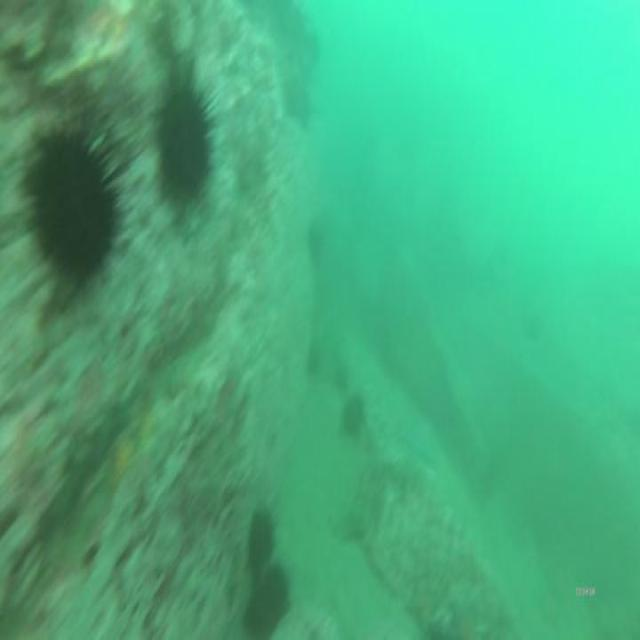echinus: (32, 144, 116, 273), (158, 89, 210, 199), (248, 564, 287, 629), (250, 508, 274, 568), (340, 392, 364, 438)
